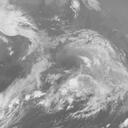cyclone: (35, 33, 105, 104)
